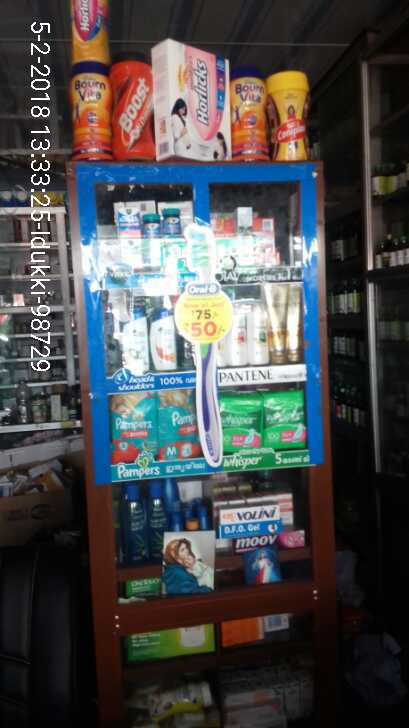vicks: (141, 211, 186, 246)
